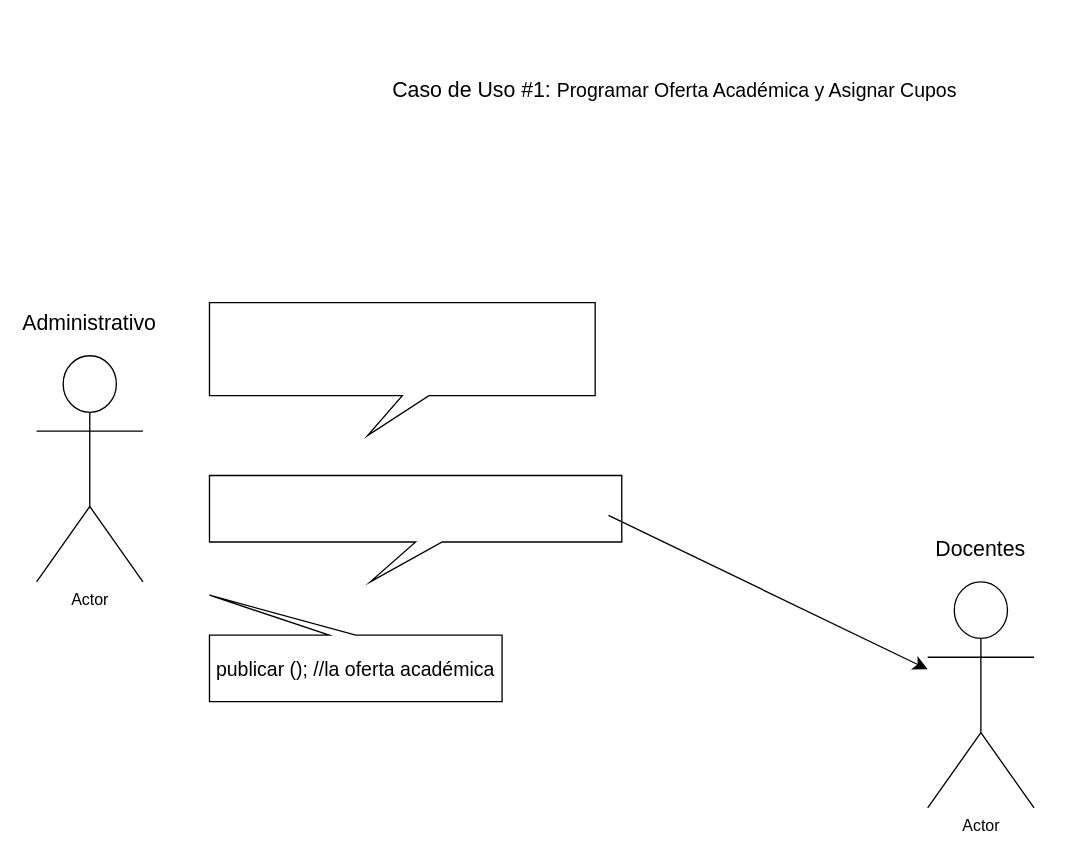
This 1083x858 diagram has some shape labels left out. Here are the shapes that lost their labels. From the top down, the centre of each, then its label:
At (401,368): "Seleccionar (); //programa y periodo lectivo".
At (415,528): "Asignar (); //aula, horario y curso".
